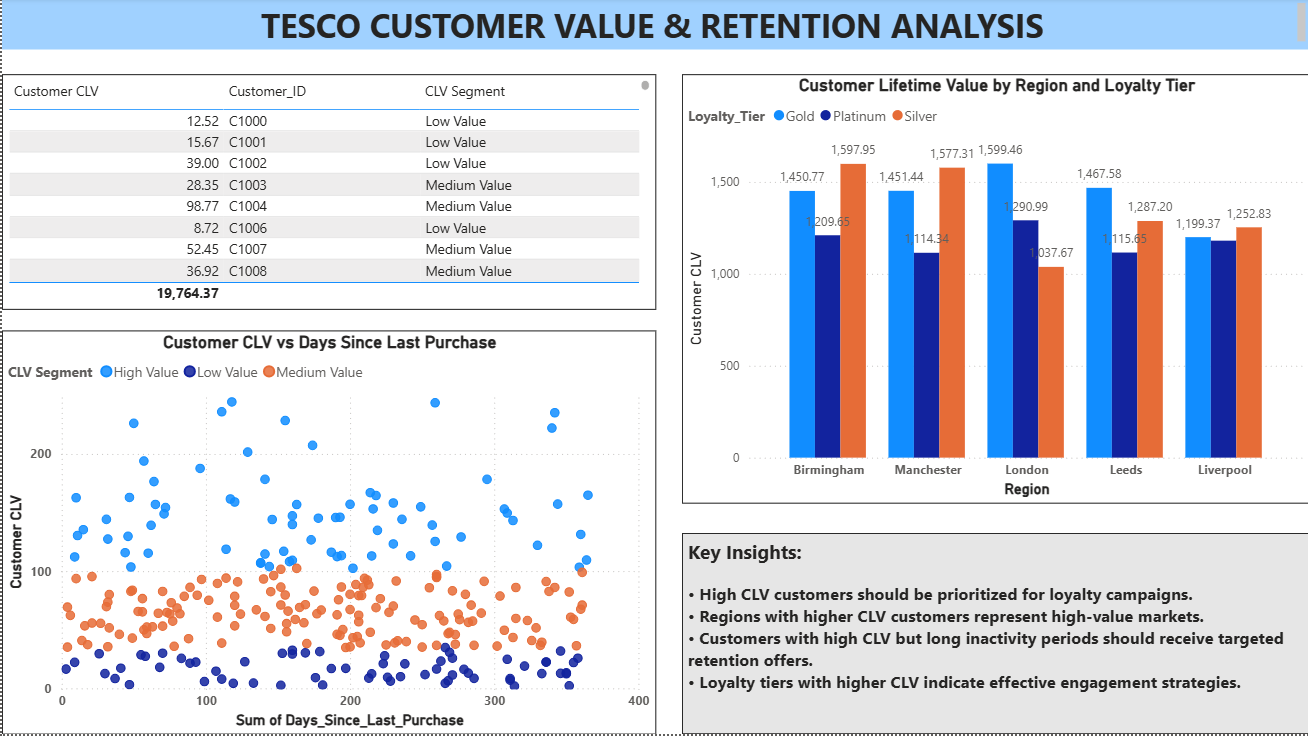

Layout of this report page (visuals, bound fields, positions):
{"tool":"powerbi","page":{"name":"CUSTOMER VALUE (CLV) ANALYSIS (Task 6)","canvas":[1280,720],"ordinal":4},"visuals":[{"type":"textbox","box":[0,0,1280,50],"z":0},{"type":"tableEx","fields":{"Values":["Customer_Transactions.Customer CLV","Customer_Transactions.Customer_ID","Customer_Demographics.CLV Segment"]},"box":[0,75,640,230],"z":1000},{"type":"scatterChart","title":"Customer CLV vs Days Since Last Purchase","fields":{"X":["Sum(Churn_Labelled_Customers.Days_Since_Last_Purchase)"],"Y":["Customer_Transactions.Customer CLV"],"Series":["Customer_Demographics.CLV Segment"],"Category":["Customer_Demographics.Customer_ID"]},"box":[0,325,640,395],"z":2000},{"type":"clusteredColumnChart","title":"Customer Lifetime Value by Region and Loyalty Tier","fields":{"Y":["Customer_Transactions.Customer CLV"],"Category":["Customer_Demographics.Region"],"Series":["Loyalty_Program.Loyalty_Tier"]},"box":[665,75,615,420],"z":3000},{"type":"textbox","box":[665,523.3,615,196.7],"z":4000}]}

Visuals, with their boxes in screenshot pixels (x1, y1, x2, y2), scaled from the page's 1280x720 canvas onto the 1308x736 screenshot:
textbox: [0,0,1307,51]
tableEx - Customer_Transactions.Customer CLV x Customer_Transactions.Customer_ID: [0,77,654,312]
"Customer CLV vs Days Since Last Purchase" scatterChart: [0,332,654,735]
"Customer Lifetime Value by Region and Loyalty Tier" clusteredColumnChart: [680,77,1307,506]
textbox: [680,535,1307,735]
